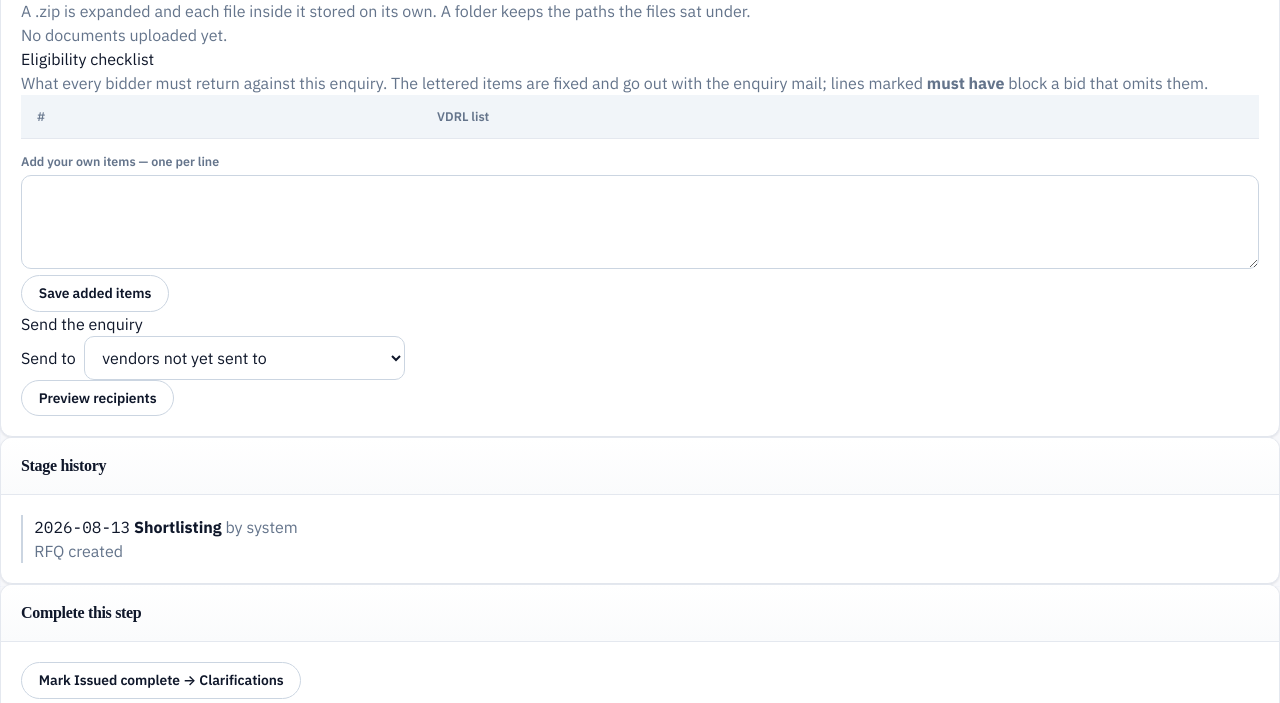
Test case: RfqWizard enquiry send — surviving a reload › keeps the preview and the skipped list on screen after sending reloads the RFQ
(page scrolled)
Click the button "Preview recipients" at (98, 398), box top-left (21, 380), bottom-right (174, 416)
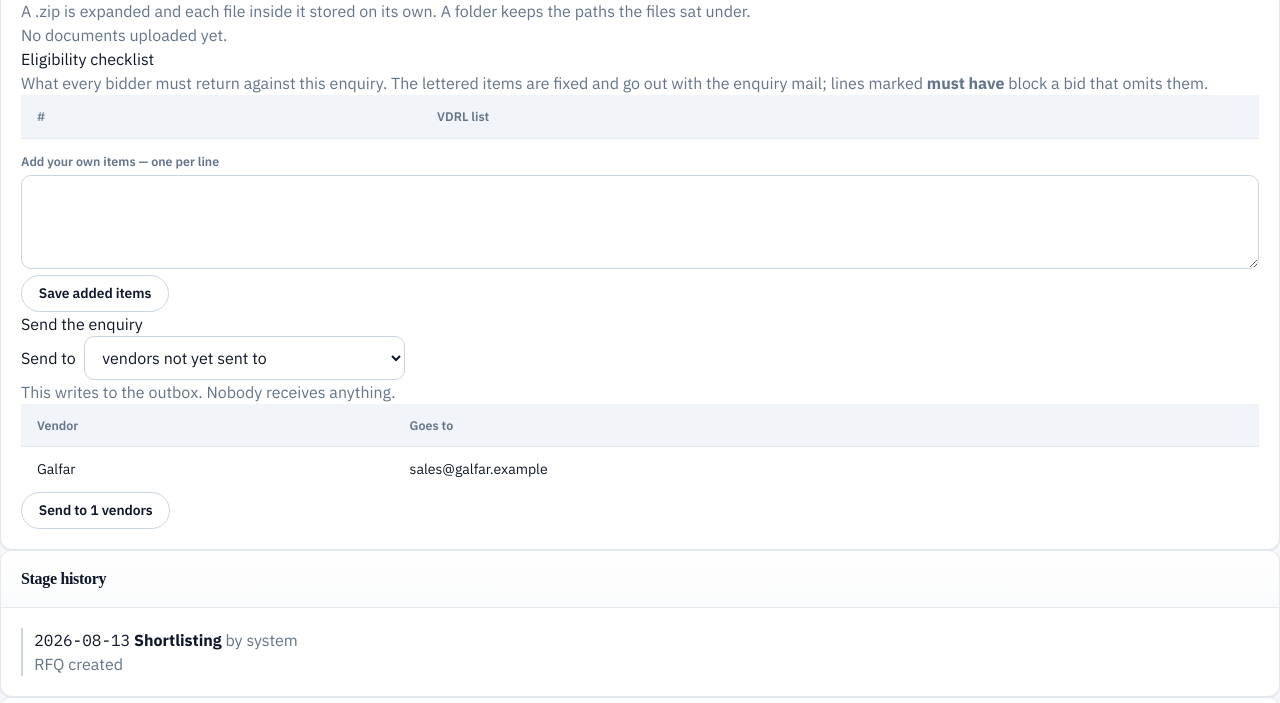
Check: the text "sales@galfar.example" is shown, box top-left (410, 460), bottom-right (548, 478)
Click the button "Send to 1 vendors" at (96, 511), box top-left (21, 492), bottom-right (170, 529)
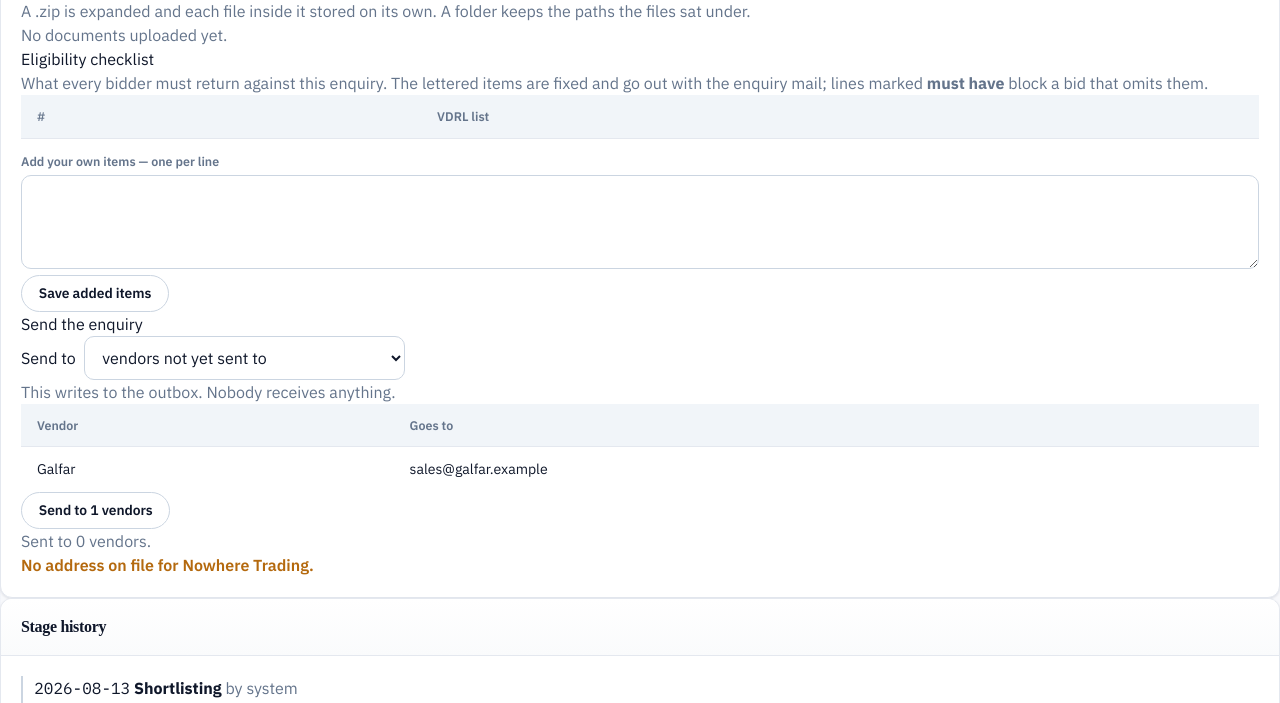
Check: the list item "No address on file for Nowhere Trading." is shown, box top-left (21, 555), bottom-right (314, 575)
